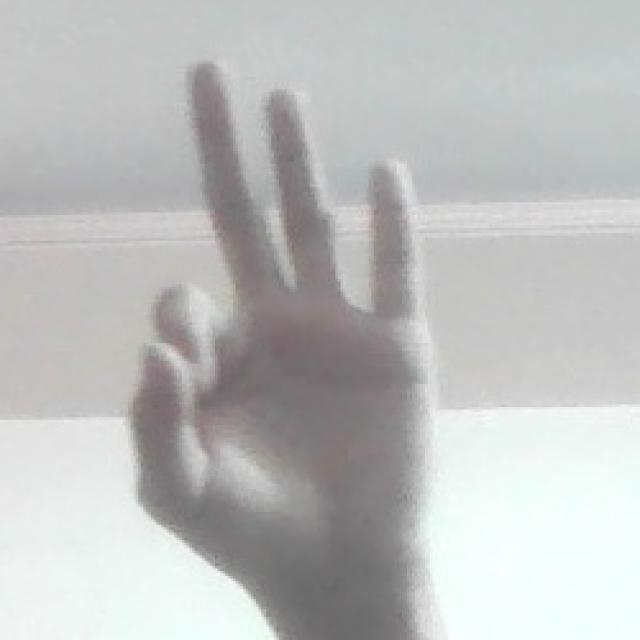Numeric-9: (123, 52, 444, 605)
